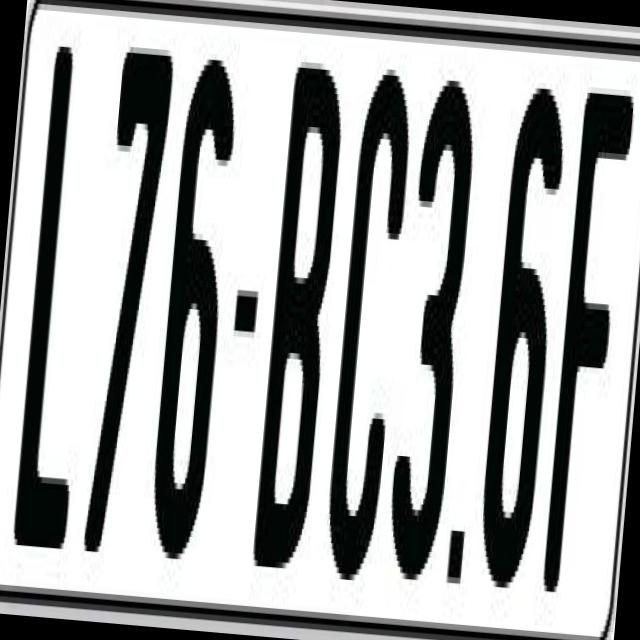3: (384, 61, 480, 570)
6: (474, 80, 574, 602), (146, 58, 247, 566)
7: (78, 51, 174, 578)
B: (244, 66, 342, 604)
C: (319, 72, 414, 598)
F: (538, 86, 636, 590)
L: (8, 28, 108, 543)
